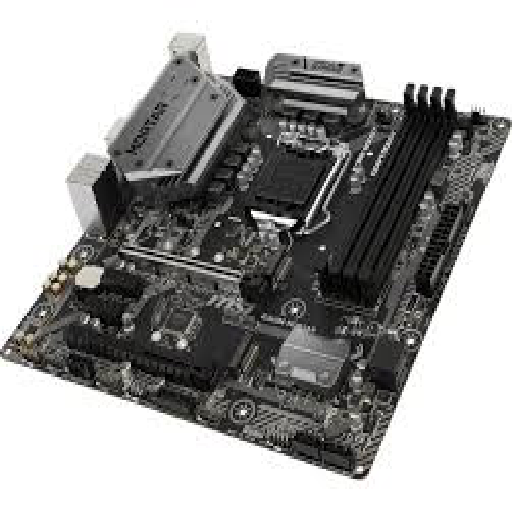CPU: (244, 121, 349, 240)
GPU: (116, 243, 274, 307), (63, 325, 217, 390)
MOTHERBOARD: (5, 30, 512, 478)
RAM: (323, 79, 454, 306)
SSD: (223, 330, 263, 379), (266, 248, 293, 288)
